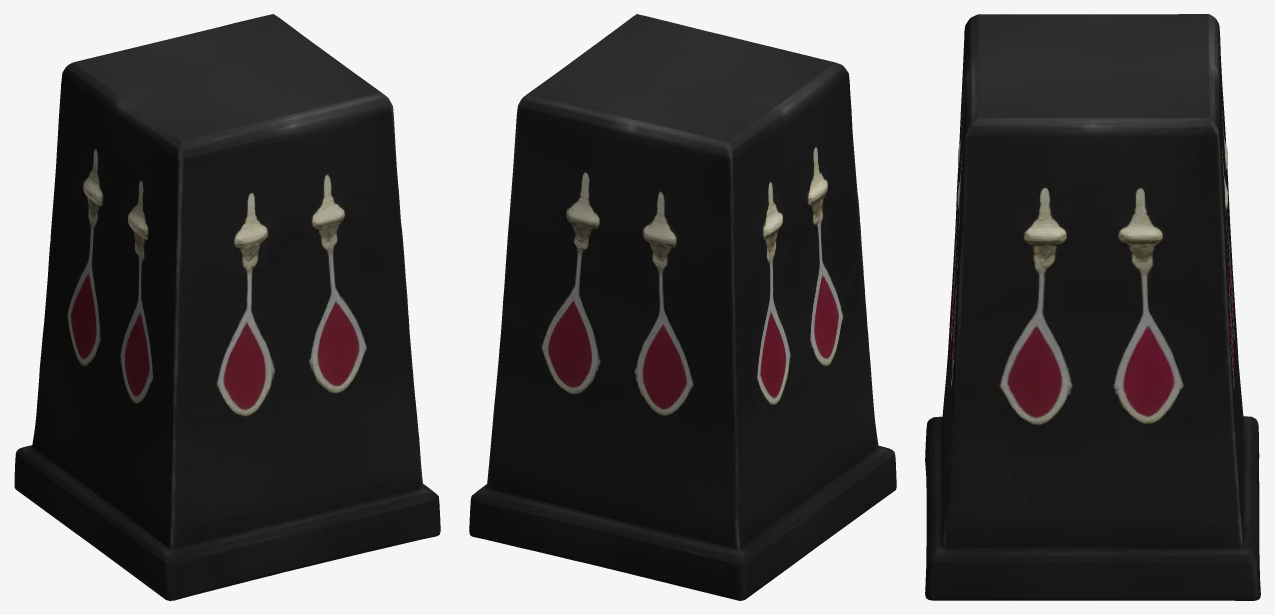
3 views of the same model, side by side, from view 1: azimuth 30°, elevation 25°; view 2: azimuth 150°, elevation 25°; view 3: azimuth 270°, elevation 25° (orthographic). The views are drawn at different scales.
Visible parts, largest first — view 1: geometry_0; view 2: geometry_0; view 3: geometry_0.
Boxes of the visible parts, x1=… form: geometry_0: x1=14, y1=14, x2=440, y2=600; geometry_0: x1=469, y1=14, x2=896, y2=600; geometry_0: x1=925, y1=14, x2=1260, y2=600.
Bounding box in the file's own units: 0.6636 × 1 × 0.6562.
1 material, 1 textured.
